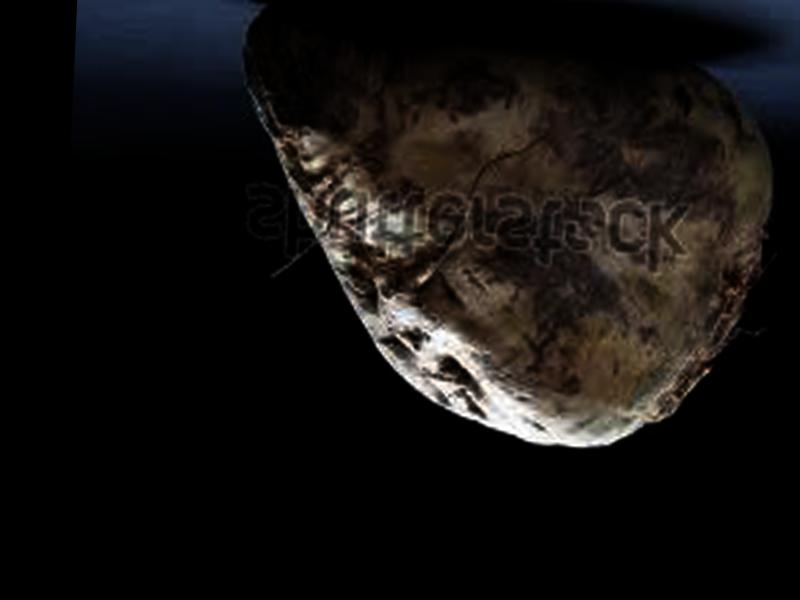Beet: (234, 7, 787, 452)
